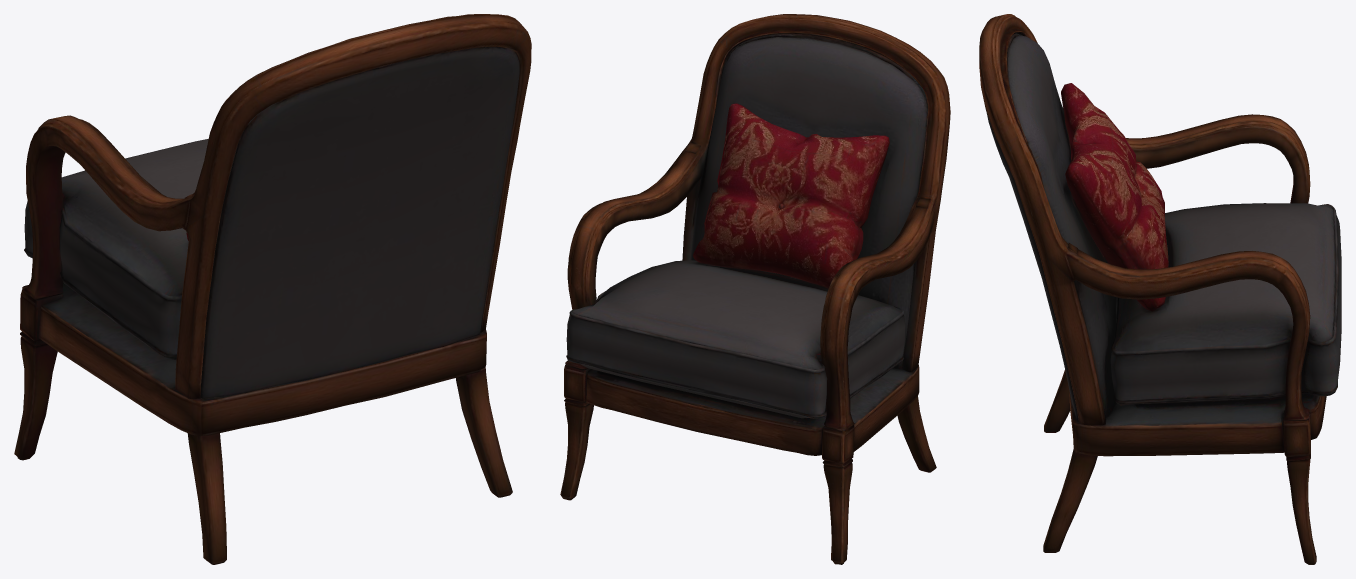
The model's file is furniture-armchair-curved.glb.
The picture shows the model from 3 angles, left to right: view 1: azimuth 30°, elevation 25°; view 2: azimuth 150°, elevation 25°; view 3: azimuth 270°, elevation 25°; orthographic projection. The views are drawn at different scales.
Visible parts, largest first — view 1: tripo_node_0da2ad79-a8fa-485b-84ad-0d1d33b97c95; view 2: tripo_node_0da2ad79-a8fa-485b-84ad-0d1d33b97c95; view 3: tripo_node_0da2ad79-a8fa-485b-84ad-0d1d33b97c95.
Boxes of the visible parts, x1=… form: tripo_node_0da2ad79-a8fa-485b-84ad-0d1d33b97c95: x1=14, y1=14, x2=531, y2=564; tripo_node_0da2ad79-a8fa-485b-84ad-0d1d33b97c95: x1=560, y1=14, x2=950, y2=564; tripo_node_0da2ad79-a8fa-485b-84ad-0d1d33b97c95: x1=979, y1=14, x2=1341, y2=564.
Bounding box in the file's own units: 0.7 × 0.95 × 0.7.
1 material, 1 textured.
